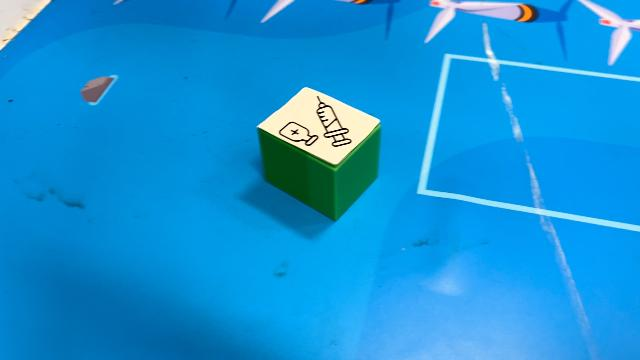syringe: (259, 87, 381, 221)
